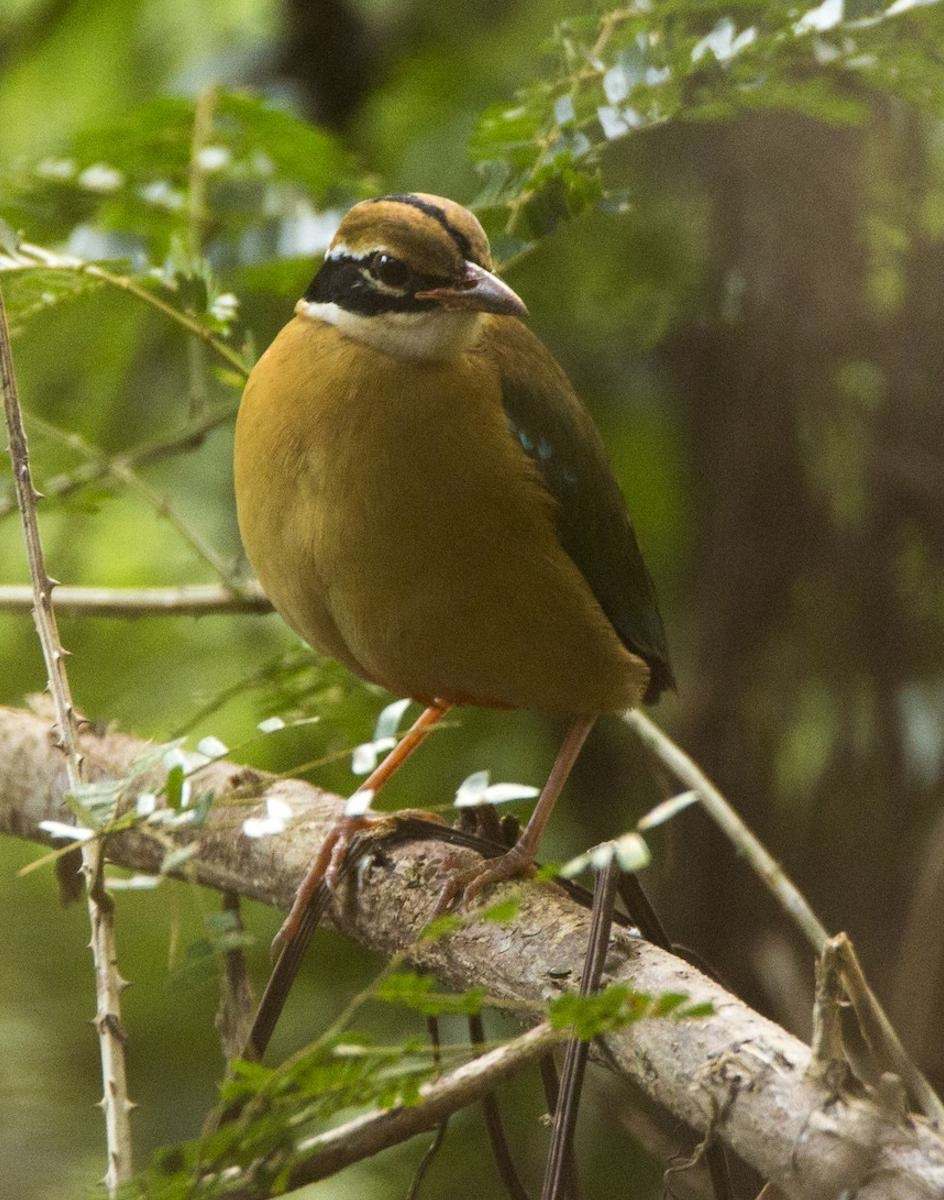pitta: (231, 146, 686, 930)
